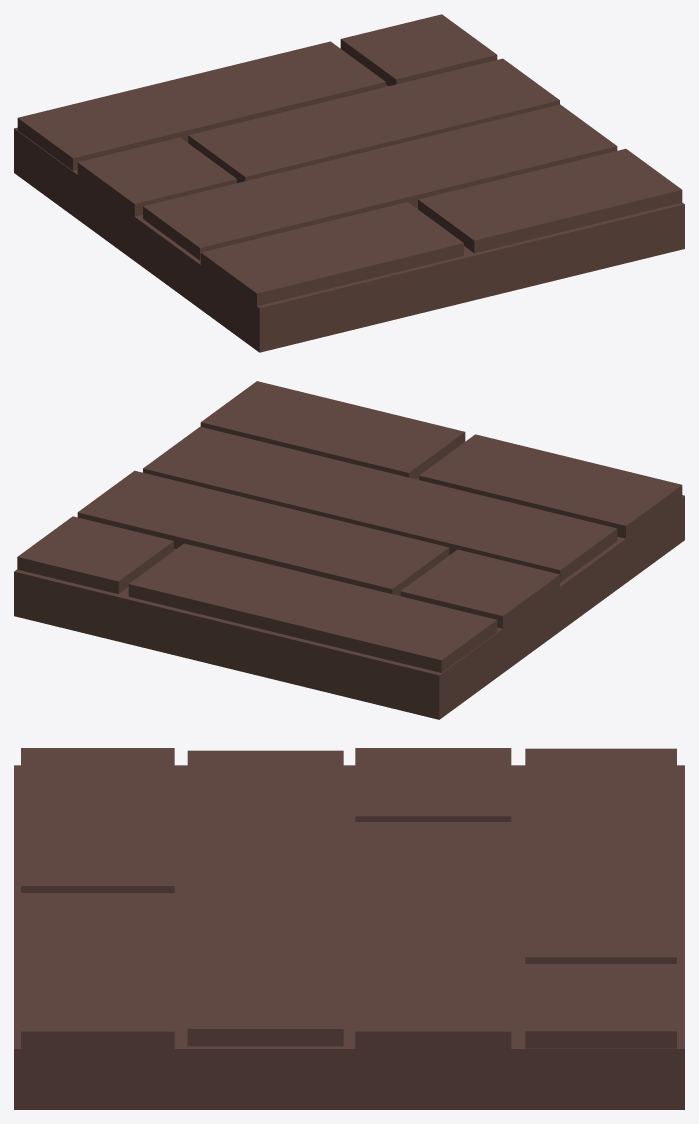
Rendered from Mesh_GroundPlanks_04.fbx.
The picture shows the model from 3 angles, top to bottom: view 1: azimuth 30°, elevation 25°; view 2: azimuth 150°, elevation 25°; view 3: azimuth 270°, elevation 25°; orthographic projection. The views are drawn at different scales.
Visible parts, largest first — view 1: Mesh_GroundPlanks_04; view 2: Mesh_GroundPlanks_04; view 3: Mesh_GroundPlanks_04.
Boxes of the visible parts, box(x1,y1,x2,y2) form: Mesh_GroundPlanks_04: box(14, 14, 684, 352); Mesh_GroundPlanks_04: box(14, 381, 684, 719); Mesh_GroundPlanks_04: box(14, 748, 684, 1109).
Size of the model in its own units: 1 by 0.1285 by 1.
